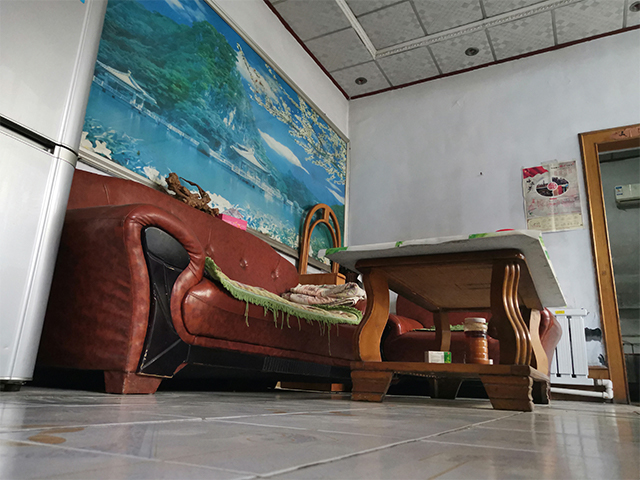sofa: (27, 167, 371, 397)
table: (320, 229, 568, 413)
